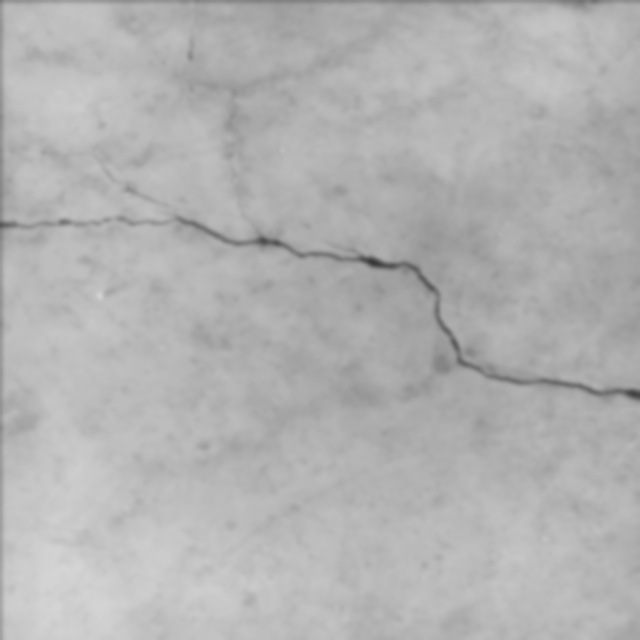SurfaceCrack: (1, 146, 640, 442)
